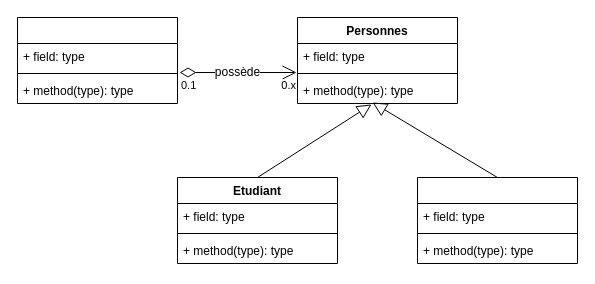
The diagram is 595 pixels wide and 284 high, and some of its shapes have lost their labels. Here are the shapes that lost their labels. From the top down, the box of each, then its label:
(16, 16, 178, 104): Université
(416, 176, 578, 264): Professeur
